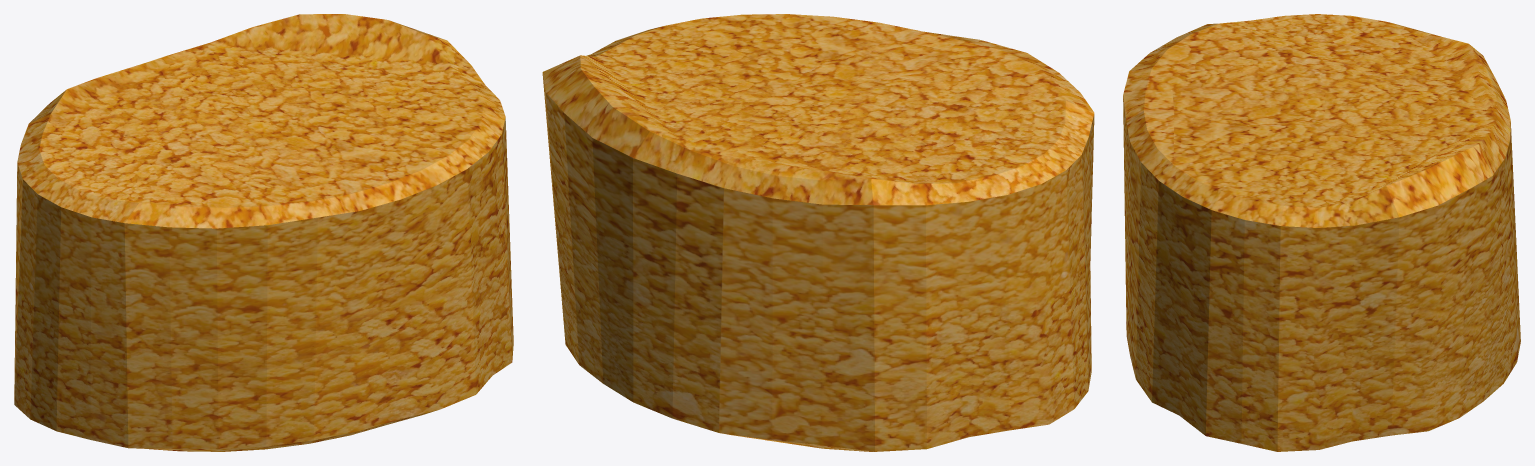
File: Kroket(Matang).fbx
3 renders of one model, left to right at view 1: azimuth 30°, elevation 25°; view 2: azimuth 150°, elevation 25°; view 3: azimuth 270°, elevation 25°, orthographic. The views are drawn at different scales.
Parts seen in each view (by area): view 1: Cylinder; view 2: Cylinder; view 3: Cylinder.
Boxes of the visible parts, x1=… form: Cylinder: x1=14, y1=14, x2=513, y2=451; Cylinder: x1=542, y1=14, x2=1094, y2=451; Cylinder: x1=1123, y1=14, x2=1520, y2=451.
Size of the model in its own units: 41.14 by 23.43 by 31.5.
1 material, 1 textured.
